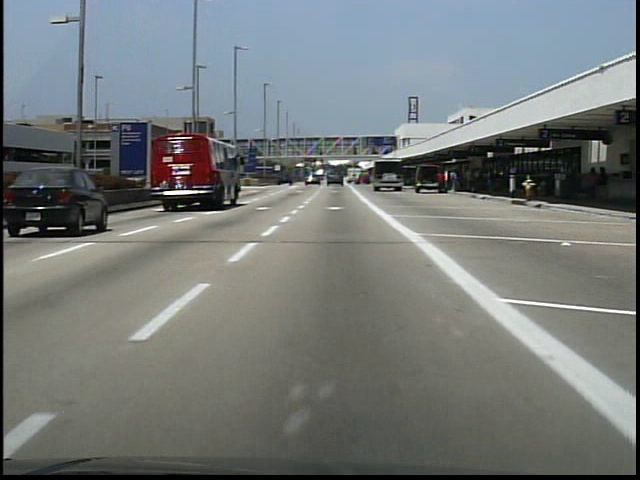person: (438, 169, 450, 199)
